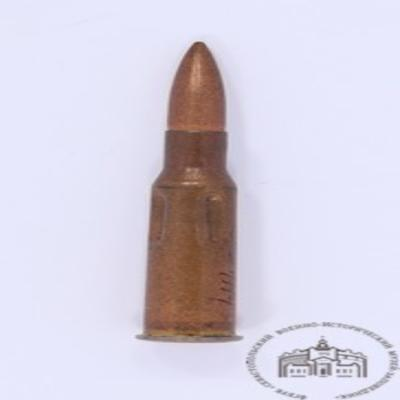weapon: (135, 41, 242, 344)
